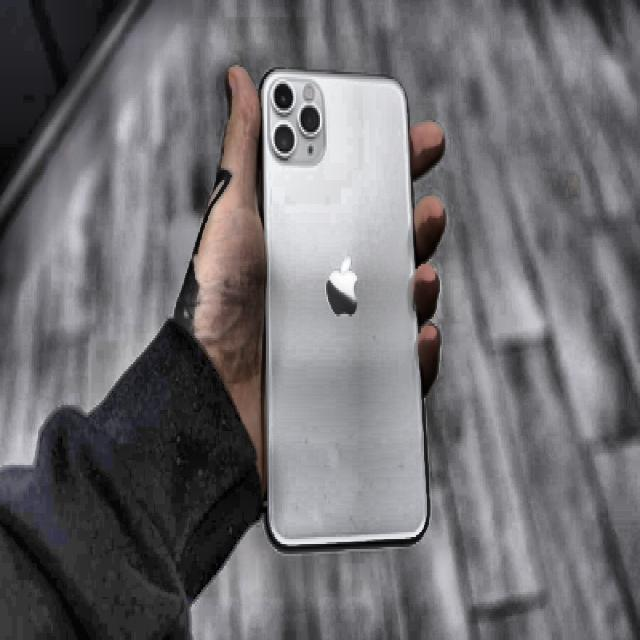Phone: (258, 70, 430, 552)
